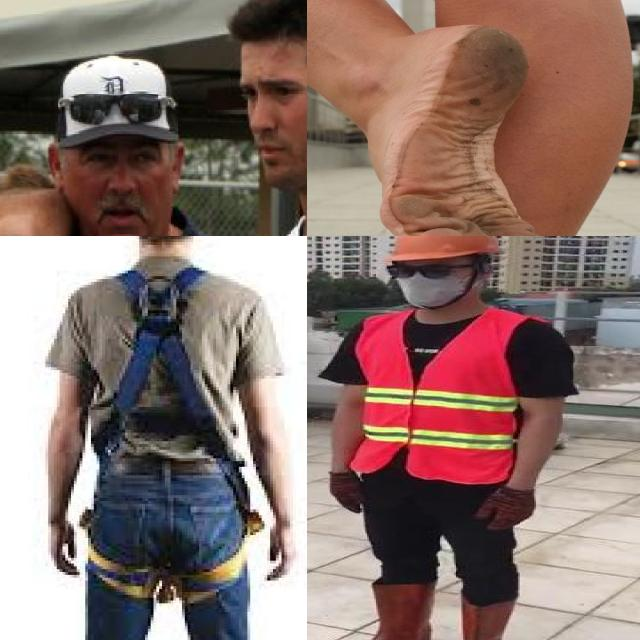Barefoots: (378, 24, 581, 236)
Harness: (93, 267, 229, 472)
boots: (340, 582, 434, 640), (445, 597, 518, 640)
face_mask: (383, 256, 474, 310)
face_nomask: (69, 141, 166, 236), (241, 70, 307, 169)
glasses: (58, 83, 179, 126), (379, 255, 462, 286)
hand_glove: (472, 485, 536, 530), (326, 473, 367, 514)
head_helmet: (378, 236, 501, 265)
head_nohelmet: (50, 61, 187, 150), (233, 0, 307, 57)
person: (307, 236, 591, 640), (0, 57, 298, 236), (197, 0, 307, 236)
vest: (351, 310, 529, 483)
